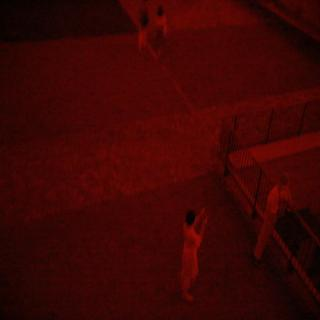person: (253, 173, 301, 272), (175, 203, 204, 316), (152, 1, 172, 60), (136, 1, 151, 62)
